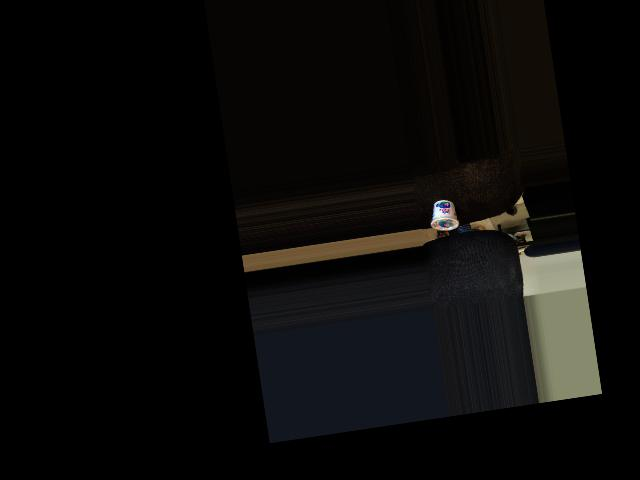cotage: (427, 196, 461, 233)
